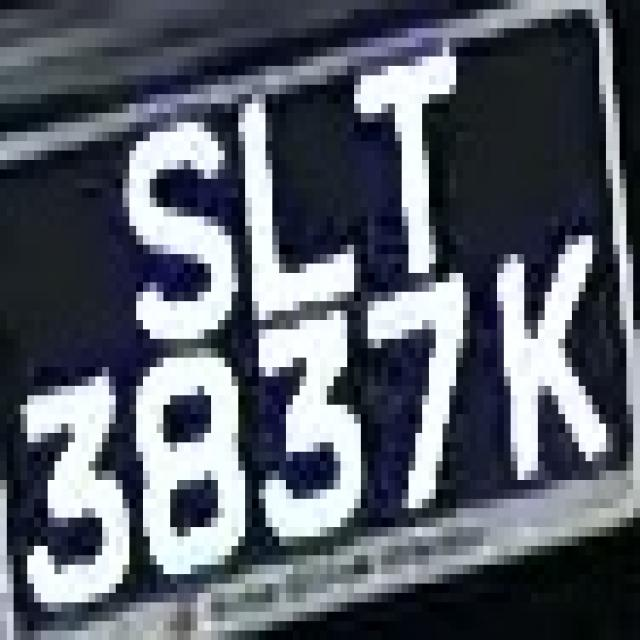3: (238, 320, 374, 546), (21, 348, 136, 602)
7: (340, 273, 490, 518)
8: (116, 339, 266, 612)
K: (470, 216, 620, 508)
L: (225, 94, 354, 301)
S: (122, 104, 232, 348)
T: (340, 47, 504, 282)
